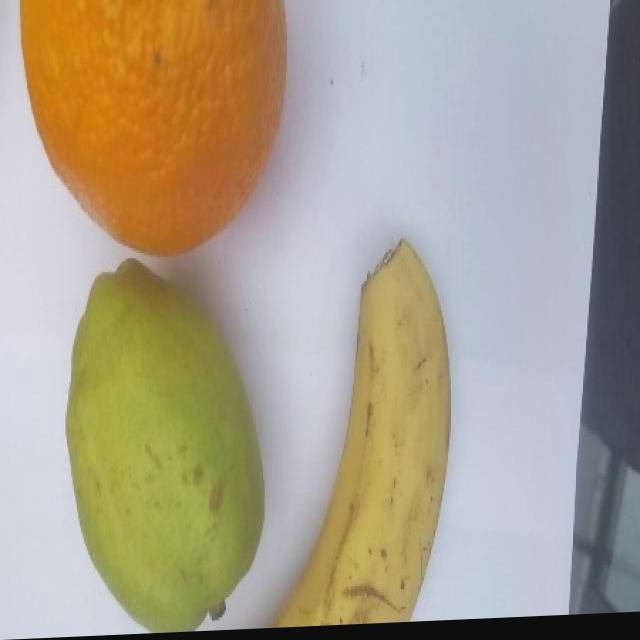Banana: (268, 241, 453, 631)
Orange: (20, 0, 288, 264)
